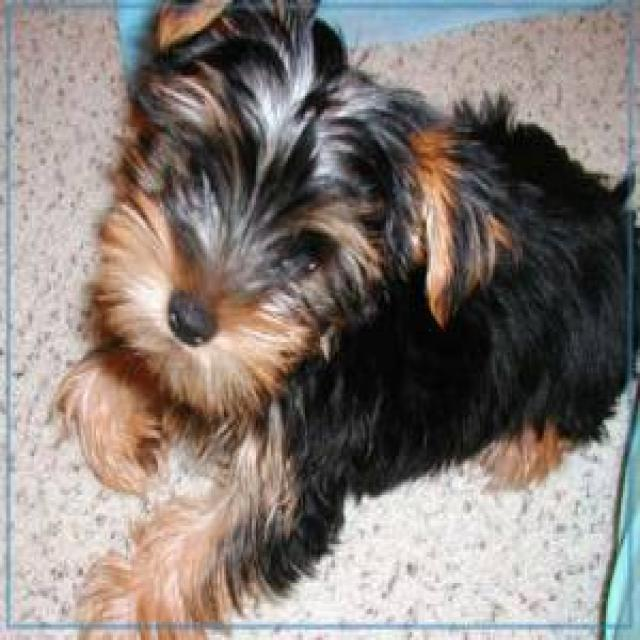dog-yorkshire_terrier: (47, 3, 636, 632)
